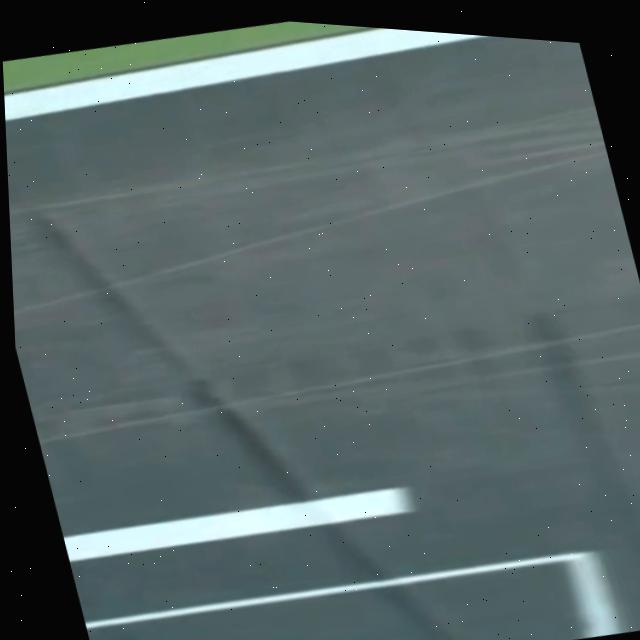center: (62, 489, 413, 563)
right: (4, 28, 490, 121)
